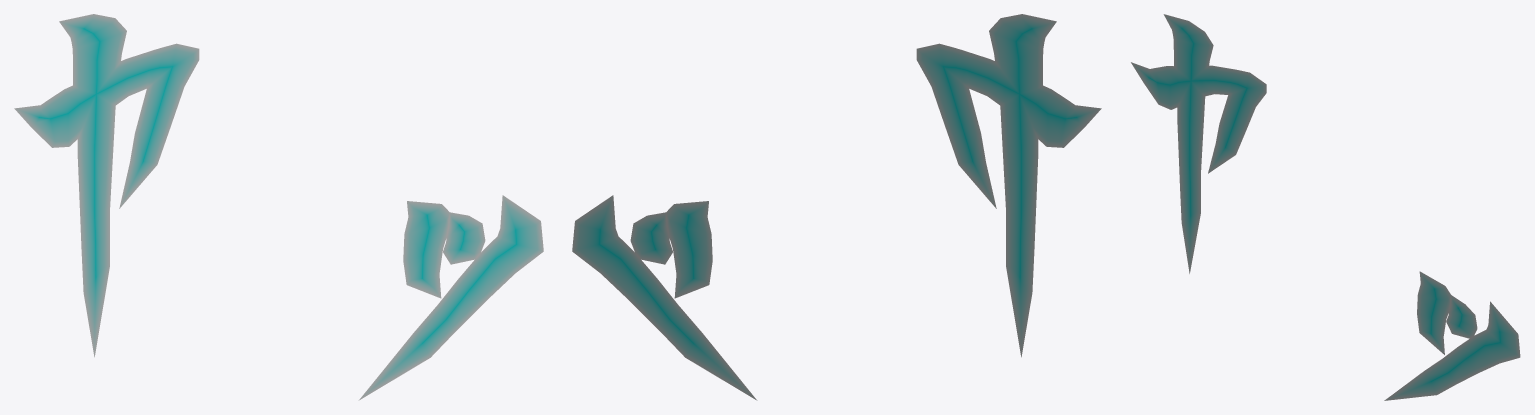
The model's file is SM_EFF_Text_Amaterasu_01.glb.
3 renders of one model, left to right at view 1: azimuth 30°, elevation 25°; view 2: azimuth 150°, elevation 25°; view 3: azimuth 330°, elevation 25°, orthographic. The views are drawn at different scales.
Parts seen in each view (by area): view 1: SM_EFF_Text_Amaterasu_01; view 2: SM_EFF_Text_Amaterasu_01; view 3: SM_EFF_Text_Amaterasu_01.
Boxes of the visible parts, <box> form: SM_EFF_Text_Amaterasu_01: <box>14,14,543,400</box>; SM_EFF_Text_Amaterasu_01: <box>572,14,1101,400</box>; SM_EFF_Text_Amaterasu_01: <box>1131,14,1520,400</box>.
Bounding box in the file's own units: 0.9315 × 0.7605 × 5.72e-08.
